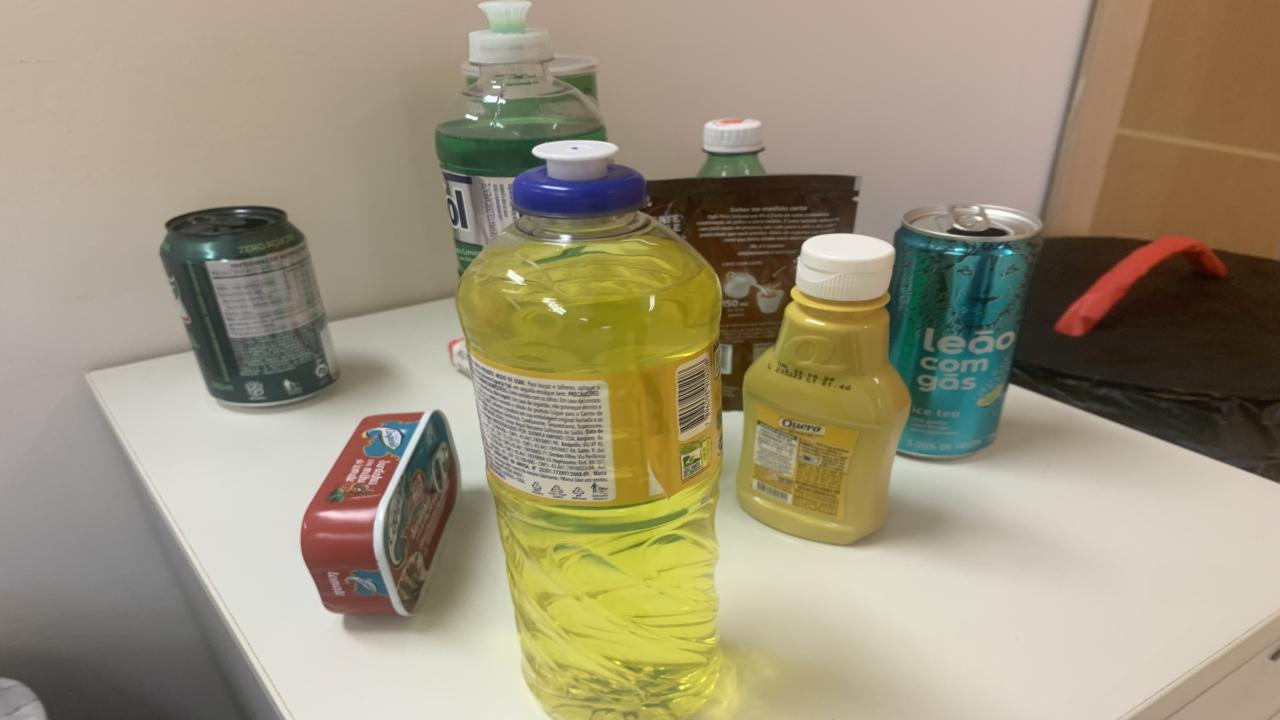Coffee-Pantry_Items: (645, 174, 860, 409)
Detergent-Cleanup_Items: (458, 141, 722, 716), (435, 0, 608, 270)
Guarana-Drinks: (698, 118, 765, 178)
Guarana_Can-Drinks: (160, 206, 340, 407)
Mustard-Pantry_Items: (738, 234, 910, 544)
Pringles-Snacks: (548, 54, 598, 105), (460, 62, 480, 84)
Tea-Drinks: (890, 204, 1042, 458)
Tuna_Can-Pantry_Items: (300, 411, 460, 615)
